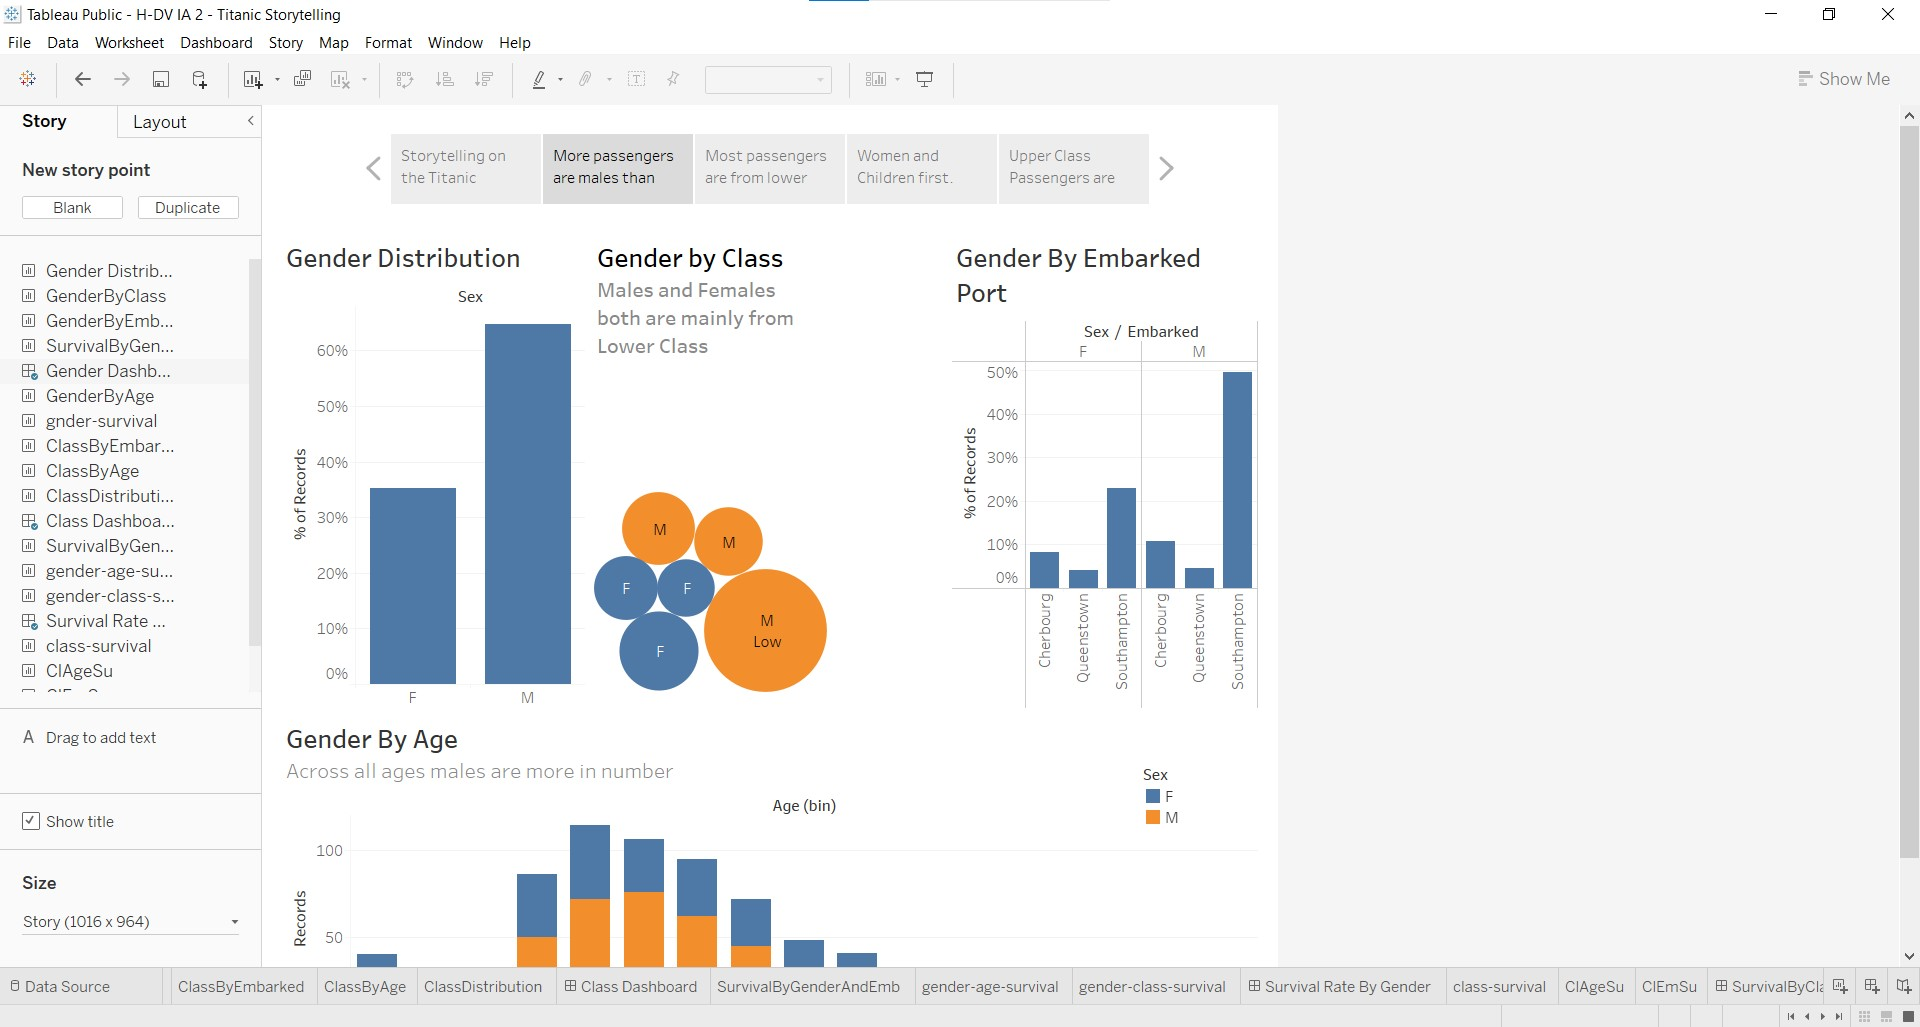

What the dashboard file says about the page in this screenshot:
{"tool":"tableau","page":{"name":"Gender Dashboard","canvas":[1000,1000],"units":"permille","ordinal":1},"visuals":[{"type":"worksheet","title":"Gender Distribution","mark":"Automatic","rows":["Number of Records"],"cols":["Sex"],"box":[4.8,9.3,313.3,574.9]},{"type":"worksheet","title":"GenderByClass","mark":"Circle","box":[318.1,9.3,360.8,574.9]},{"type":"worksheet","title":"GenderByEmbarked","mark":"Automatic","rows":["Number of Records"],"cols":["Sex","Embarked"],"box":[678.9,9.3,316.2,574.9]},{"type":"legend","title":"GenderByEmbarked","param":"[federated.1lpd77m006dcib10ukoc00imbeq4].[none:Embarked:nk]","box":[733.2,148.7,96.6,108]},{"type":"worksheet","title":"GenderByAge","mark":"Automatic","rows":["Number of Records"],"cols":["Age (bin)"],"box":[4.8,584.2,990.3,406.5]},{"type":"legend","title":"GenderByAge","param":"[federated.1lpd77m006dcib10ukoc00imbeq4].[none:Sex:nk]","box":[869,640,84.5,109.2]}]}

Visuals, with their boxes on the dashboard's canvas, which has no fixed pixel size, in thousandths of its width and height (x1, y1, x2, y2). These are canvas units, not pixel positions in the 1920x1027 screenshot, which may show the page scaled, cropped or inside an application window:
"Gender Distribution" worksheet: {"x1": 5, "y1": 9, "x2": 318, "y2": 584}
"GenderByClass" worksheet (Circle marks): {"x1": 318, "y1": 9, "x2": 679, "y2": 584}
"GenderByEmbarked" worksheet: {"x1": 679, "y1": 9, "x2": 995, "y2": 584}
"GenderByEmbarked" legend: {"x1": 733, "y1": 149, "x2": 830, "y2": 257}
"GenderByAge" worksheet: {"x1": 5, "y1": 584, "x2": 995, "y2": 991}
"GenderByAge" legend: {"x1": 869, "y1": 640, "x2": 954, "y2": 749}
